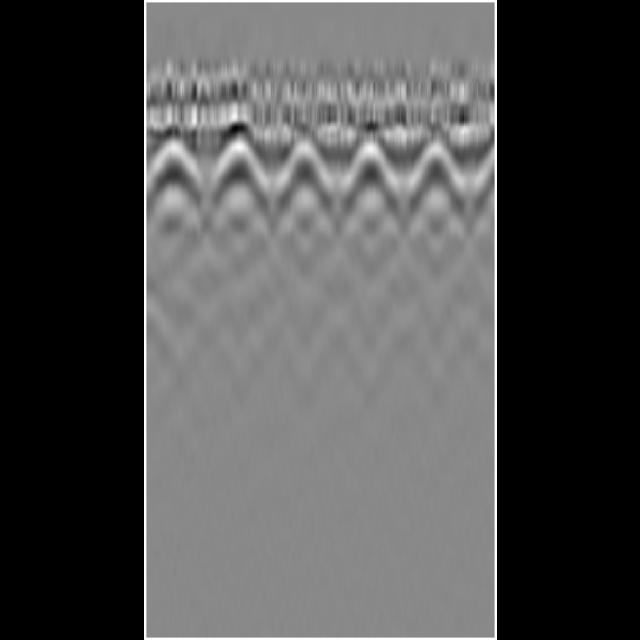hyperbola: (334, 134, 400, 214), (204, 128, 270, 206), (404, 134, 466, 204), (272, 134, 332, 206), (144, 132, 202, 202)
